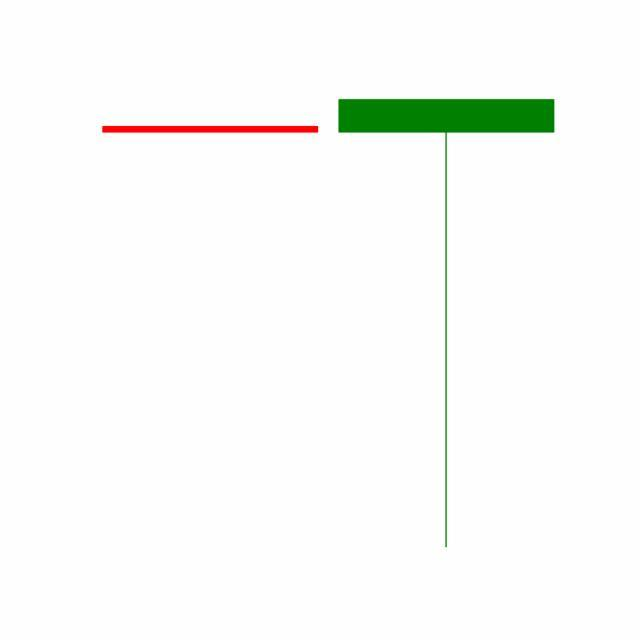Hammer: (328, 95, 566, 553)
